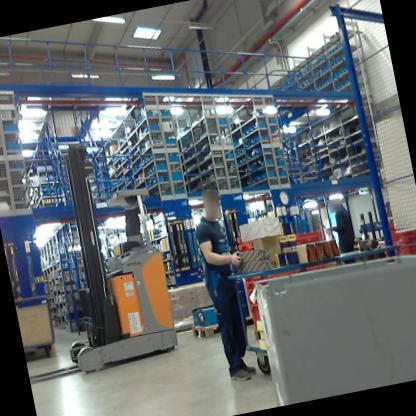forklift: (0, 102, 188, 385)
pallet: (191, 318, 220, 339)
small_load_carrier: (246, 299, 275, 328), (299, 258, 332, 275), (242, 275, 268, 293), (293, 229, 321, 242), (234, 237, 259, 251), (235, 232, 258, 241)
